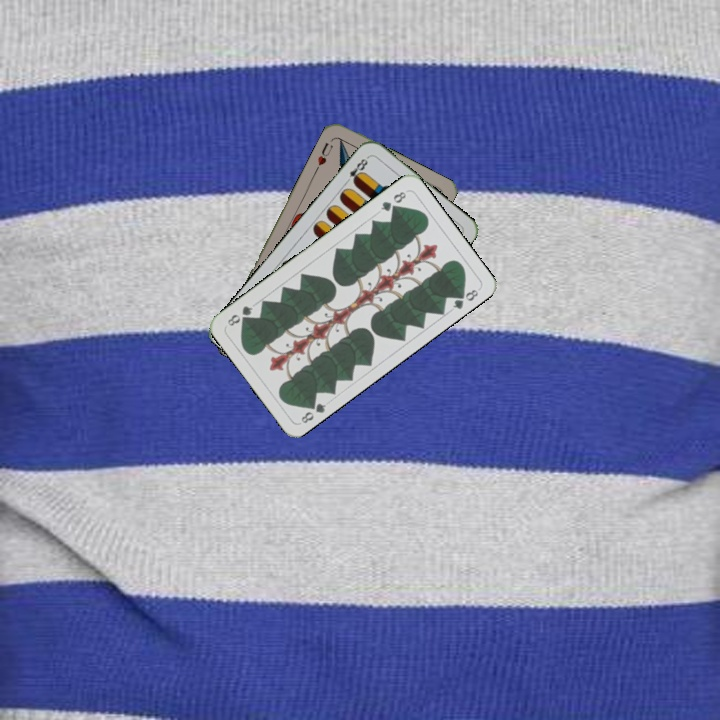E8: (341, 153, 371, 187)
G8: (296, 396, 329, 426), (376, 187, 410, 214)
HU: (312, 138, 336, 173)
